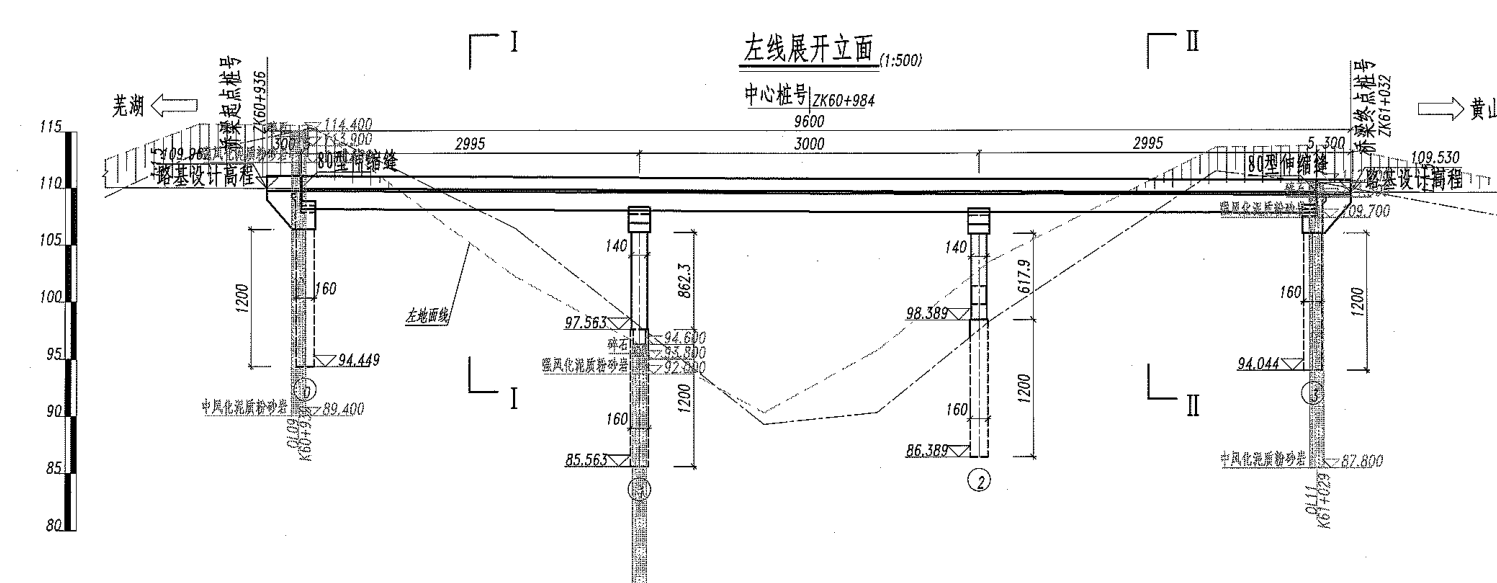A: (266, 111, 1357, 137)
C: (892, 201, 1007, 502), (552, 200, 664, 506), (1228, 215, 1337, 416)
